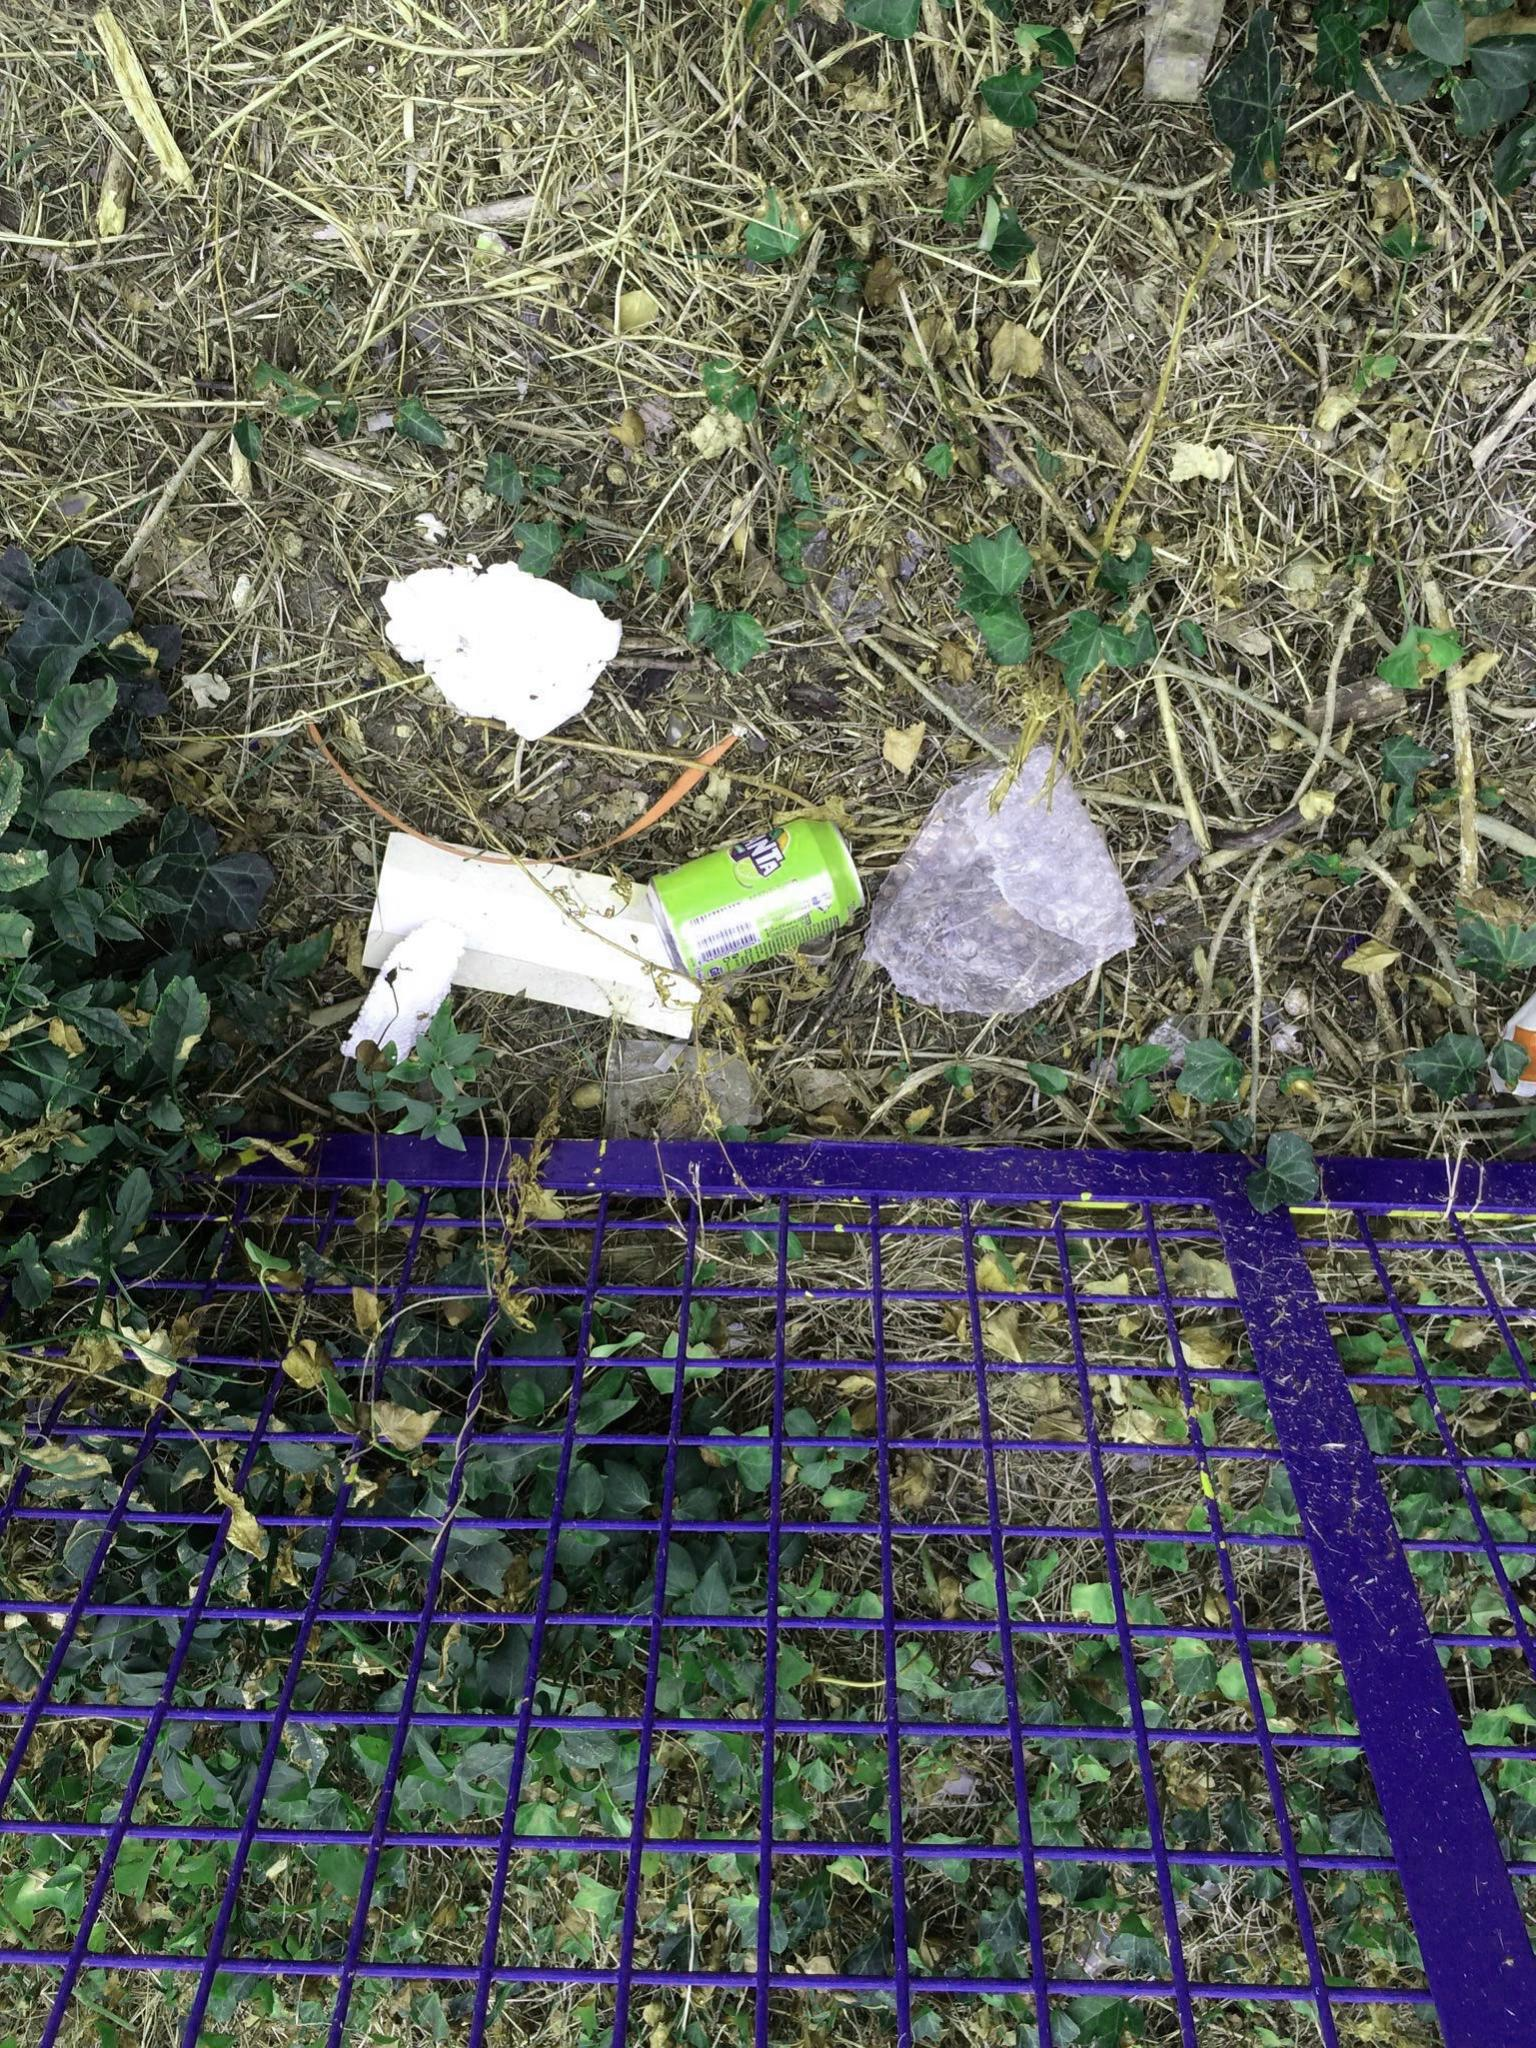Metal: (613, 800, 884, 1009), (365, 539, 631, 751)
Plastic: (841, 735, 1149, 1035)
Trash: (332, 839, 695, 1063), (1473, 984, 1536, 1119)
